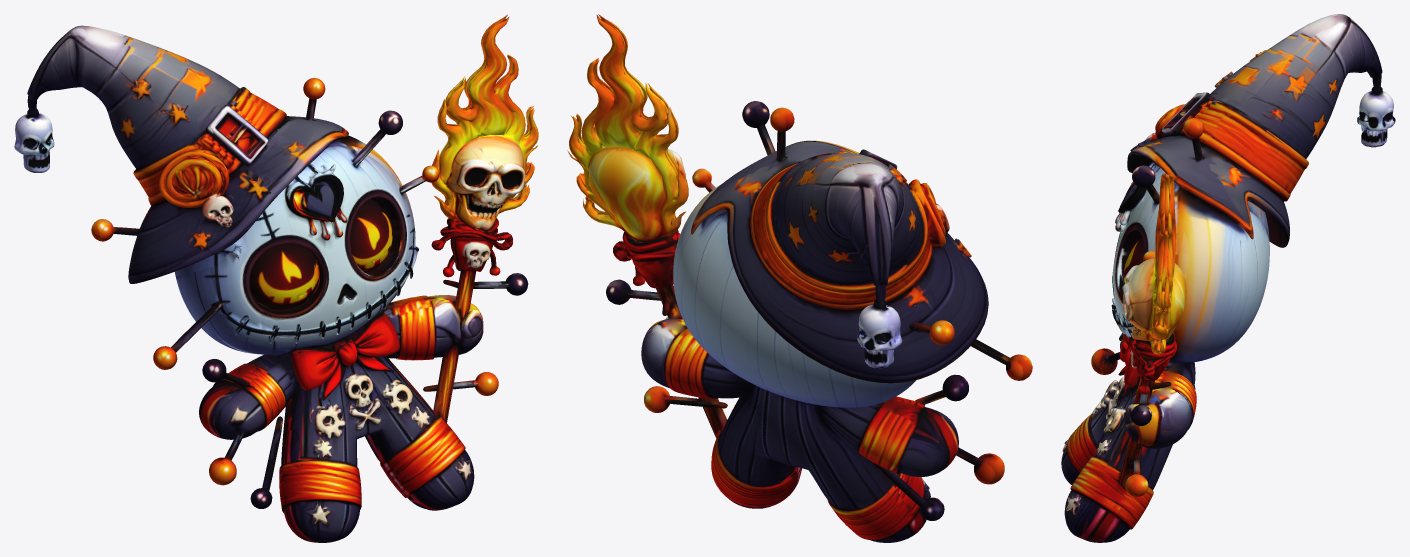
Rendered from pixellabs-voodoo-doll-3706.high.glb.
3 renders of one model, left to right at view 1: azimuth 30°, elevation 25°; view 2: azimuth 150°, elevation 25°; view 3: azimuth 270°, elevation 25°, orthographic. The views are drawn at different scales.
Parts seen in each view (by area): view 1: material; view 2: material; view 3: material.
Boxes of the visible parts, x1,y1,x2,y2 form: material: (14, 14, 538, 542); material: (567, 14, 1032, 542); material: (1061, 14, 1395, 542).
Size of the model in its own units: 0.855 by 0.8847 by 0.6372.
Materials: 1 (1 with a texture image).
